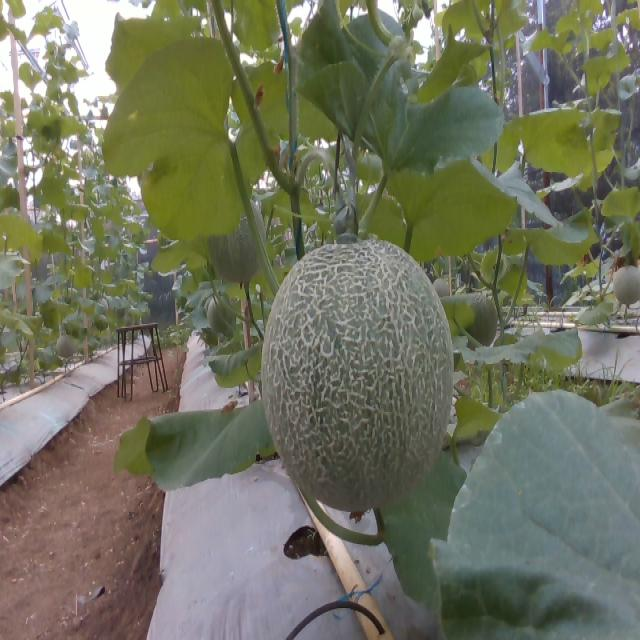melon: (262, 240, 454, 511)
